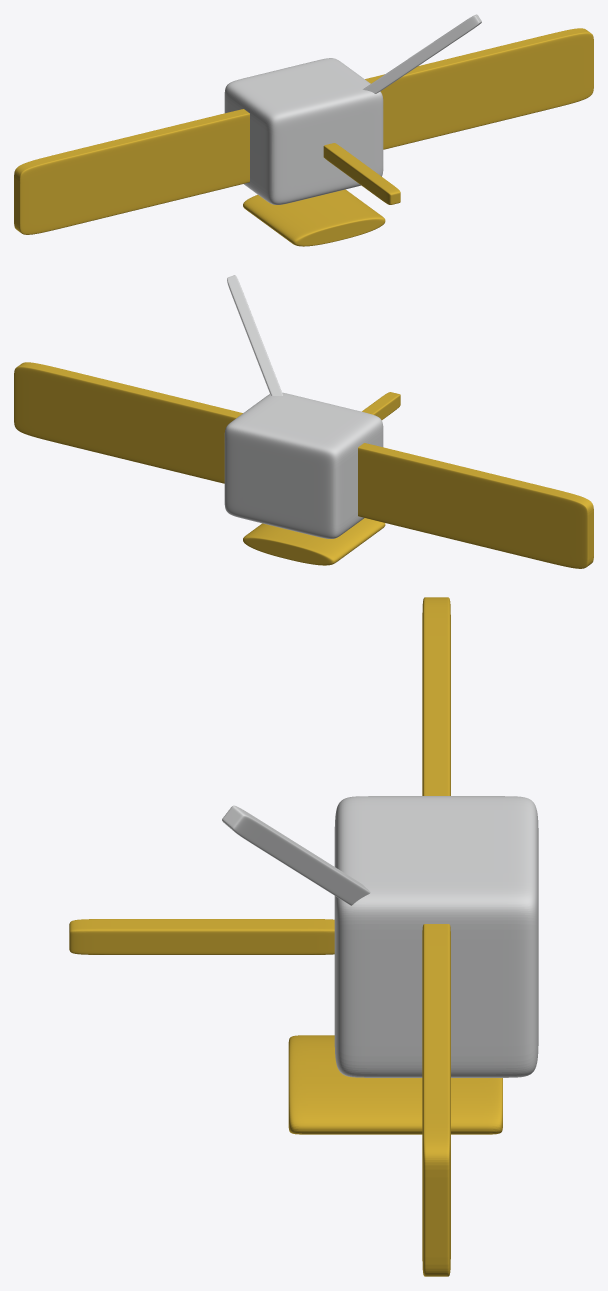
Rendered from orbiting_satellite_sq.glb.
3 renders of one model, top to bottom at view 1: azimuth 30°, elevation 25°; view 2: azimuth 150°, elevation 25°; view 3: azimuth 270°, elevation 25°, orthographic. The views are drawn at different scales.
Visible parts, largest first — view 1: superquadric_1, superquadric_0, superquadric_2, superquadric_3, superquadric_4, superquadric_5; view 2: superquadric_1, superquadric_0, superquadric_2, superquadric_3, superquadric_5, superquadric_4; view 3: superquadric_0, superquadric_3, superquadric_2, superquadric_4, superquadric_1, superquadric_5.
Boxes of the visible parts, left/top/right/bottom form: superquadric_1: left=14, top=109, right=249, bottom=234; superquadric_0: left=224, top=58, right=383, bottom=204; superquadric_2: left=365, top=28, right=593, bottom=149; superquadric_3: left=243, top=189, right=385, bottom=246; superquadric_4: left=323, top=143, right=400, bottom=204; superquadric_5: left=363, top=14, right=481, bottom=93; superquadric_1: left=358, top=443, right=593, bottom=568; superquadric_0: left=224, top=392, right=383, bottom=538; superquadric_2: left=14, top=362, right=242, bottom=483; superquadric_3: left=243, top=518, right=385, bottom=565; superquadric_5: left=227, top=275, right=283, bottom=395; superquadric_4: left=362, top=392, right=400, bottom=419; superquadric_0: left=334, top=796, right=538, bottom=1077; superquadric_3: left=288, top=1035, right=502, bottom=1134; superquadric_2: left=422, top=924, right=450, bottom=1276; superquadric_4: left=69, top=919, right=334, bottom=954; superquadric_1: left=422, top=597, right=450, bottom=795; superquadric_5: left=222, top=805, right=370, bottom=905.
Size of the model in its own units: 1 by 0.3431 by 0.3539.
